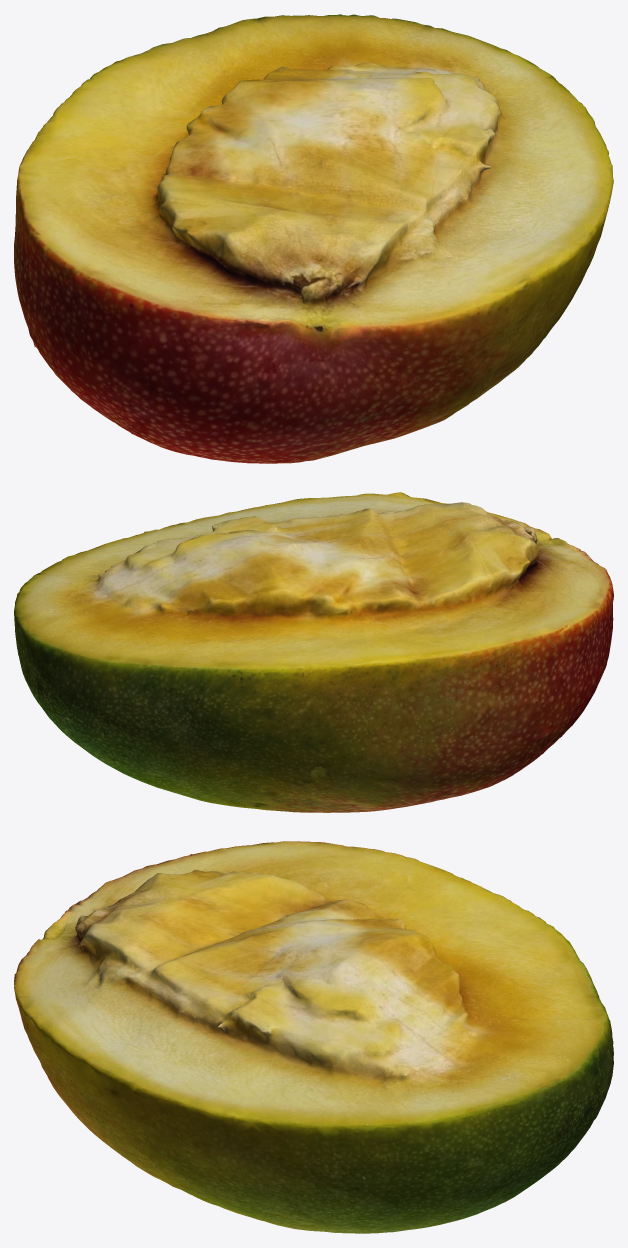
The model's file is mango-half.glb.
The picture shows the model from 3 angles, top to bottom: view 1: azimuth 30°, elevation 25°; view 2: azimuth 150°, elevation 25°; view 3: azimuth 270°, elevation 25°; orthographic projection. The views are drawn at different scales.
Parts seen in each view (by area): view 1: Mango_Half; view 2: Mango_Half; view 3: Mango_Half.
Part boxes in pixels (bbox=[...]): Mango_Half: bbox=[14, 14, 613, 463]; Mango_Half: bbox=[14, 492, 613, 812]; Mango_Half: bbox=[14, 841, 613, 1233].
Bounding box in the file's own units: 0.1115 × 0.0531 × 0.1096.
Materials: 1 (1 with a texture image).
